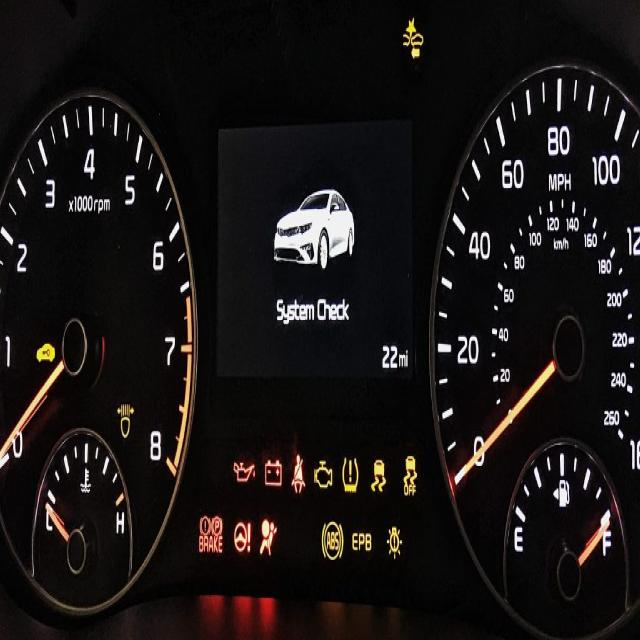Anti Lock Braking System: (321, 521, 344, 561)
Braking System Issue: (200, 516, 222, 553)
Charging System Issue: (265, 460, 282, 486)
Check Engine: (314, 461, 332, 488)
Electronic Stability Problem -ESP-: (371, 459, 386, 493)
Low Engine Oil Warning Light: (233, 462, 255, 481)
Low Tire Pressure Warning Light: (342, 456, 359, 493)
SRS-Airbag: (260, 519, 277, 556)
